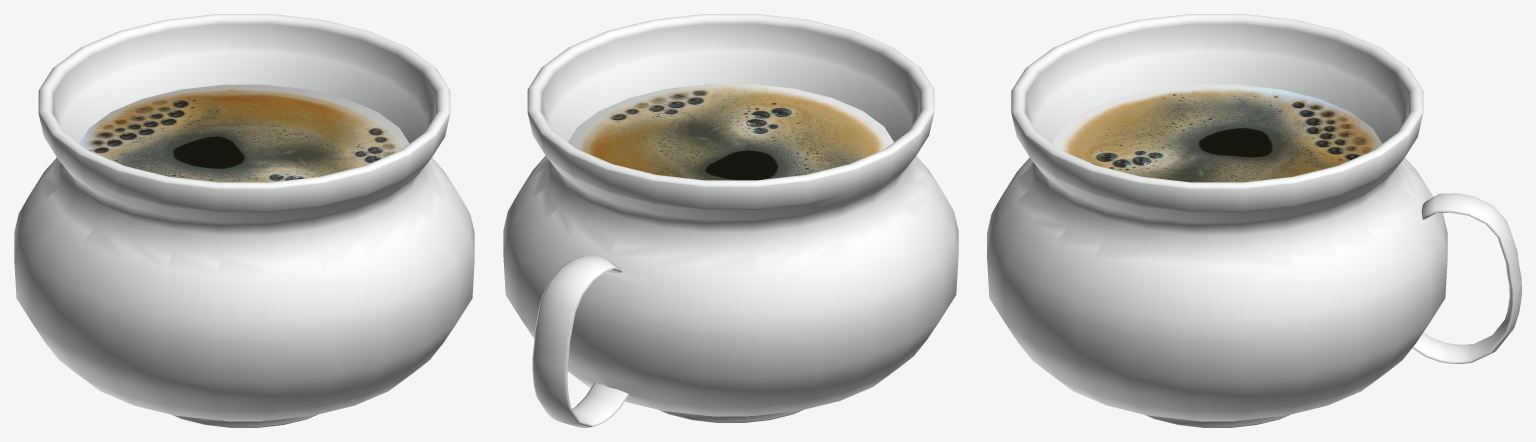
3 views of the same model, side by side, from view 1: azimuth 30°, elevation 25°; view 2: azimuth 150°, elevation 25°; view 3: azimuth 270°, elevation 25° (orthographic).
Visible parts, largest first — view 1: mesh1_mesh1-geometry_1, mesh1_mesh1-geometry_2; view 2: mesh1_mesh1-geometry_1, mesh1_mesh1-geometry_2, mesh1_mesh1-geometry; view 3: mesh1_mesh1-geometry_1, mesh1_mesh1-geometry_2, mesh1_mesh1-geometry.
Boxes of the visible parts, x1,y1,x2,y2 form: mesh1_mesh1-geometry_1: [14, 14, 474, 427]; mesh1_mesh1-geometry_2: [79, 84, 409, 182]; mesh1_mesh1-geometry_1: [503, 14, 958, 422]; mesh1_mesh1-geometry_2: [568, 84, 893, 180]; mesh1_mesh1-geometry: [532, 255, 628, 427]; mesh1_mesh1-geometry_1: [987, 14, 1447, 427]; mesh1_mesh1-geometry_2: [1052, 84, 1382, 182]; mesh1_mesh1-geometry: [1412, 193, 1521, 363].
Size of the model in its own units: 0.5955 by 0.4089 by 0.6915.
3 materials, 1 textured.
